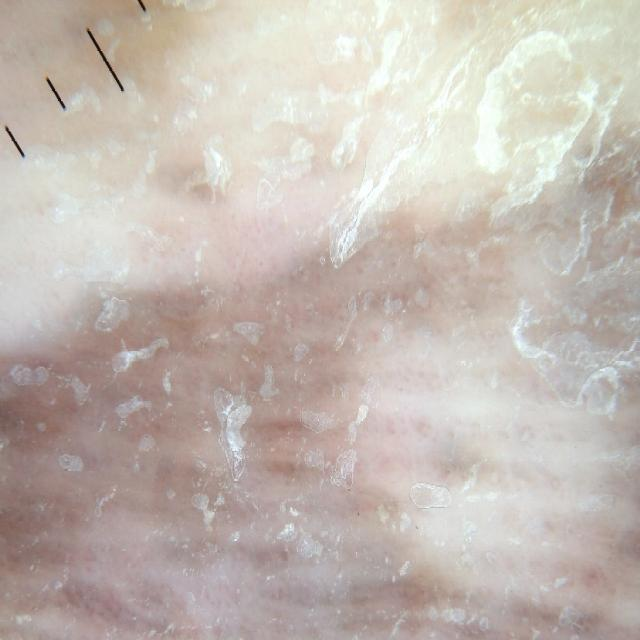Melanoma: (0, 242, 640, 640)
